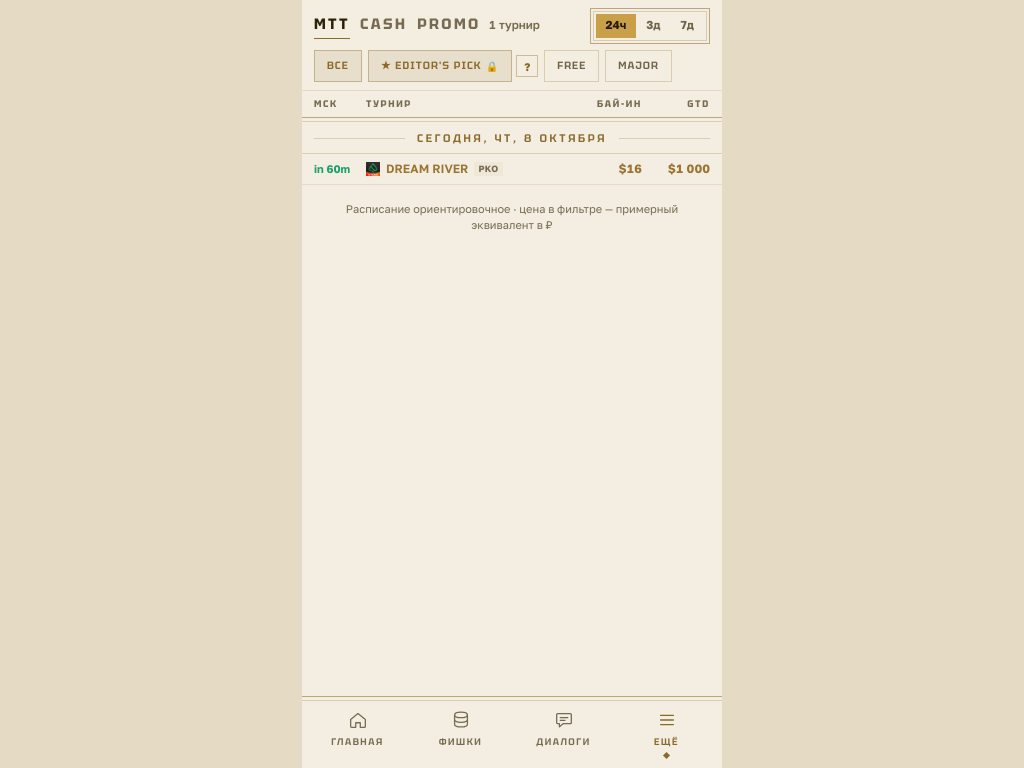
Scenario: MTT для гостя › неделя и Editor's Pick просят войти, запрос остаётся на сутки
expect the number of rows with test id "tournament-row" is 1: met, box [302, 154, 722, 185]
expect the text "🔒" is shown: met, box [486, 58, 499, 74]
Click the tab named "Неделя".
click(687, 26)  # box [670, 14, 704, 38]
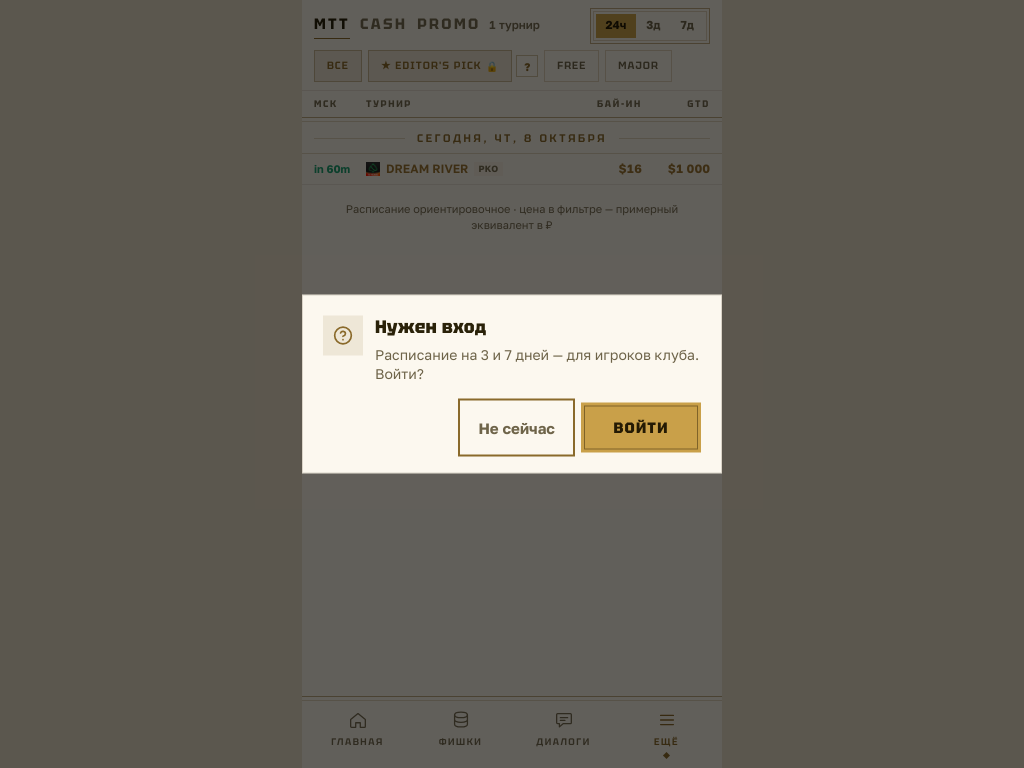
expect the heading "Нужен вход" is shown: met, box [375, 314, 486, 338]
expect the text "Расписание на 3 и 7 дней — для игроков клуба. Войти?" is shown: met, box [375, 344, 701, 382]
Click the button "Не сейчас".
click(517, 428)  # box [462, 402, 571, 452]
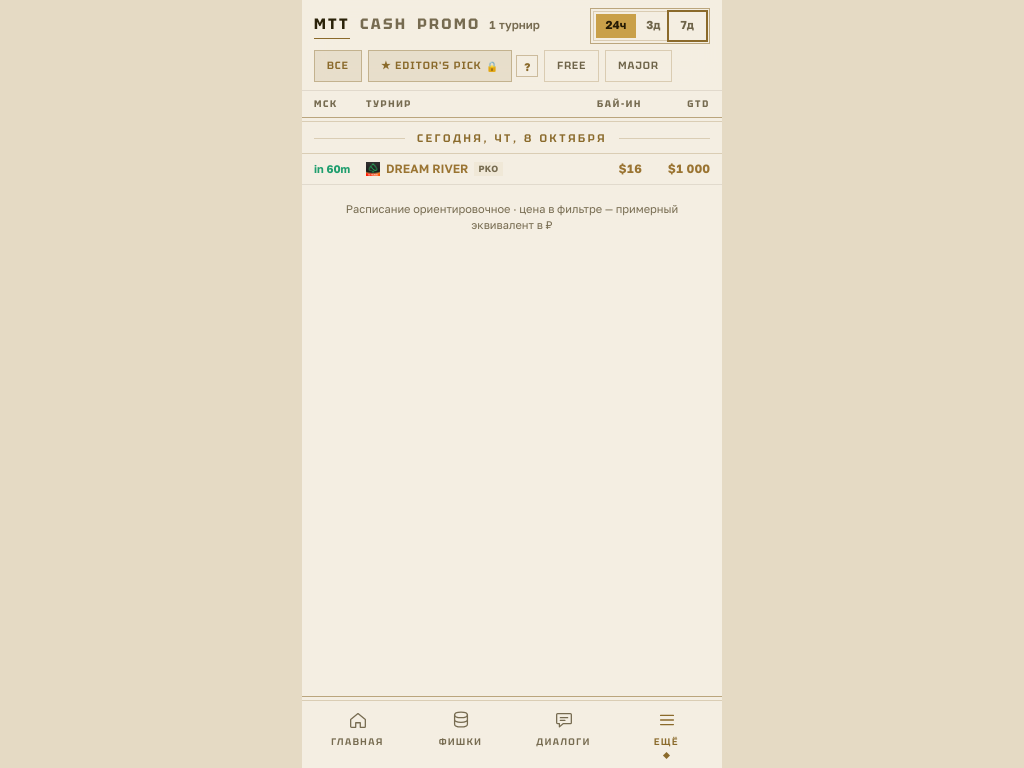
Click the button "★ Editor's Pick 🔒".
click(440, 66)  # box [368, 50, 512, 82]
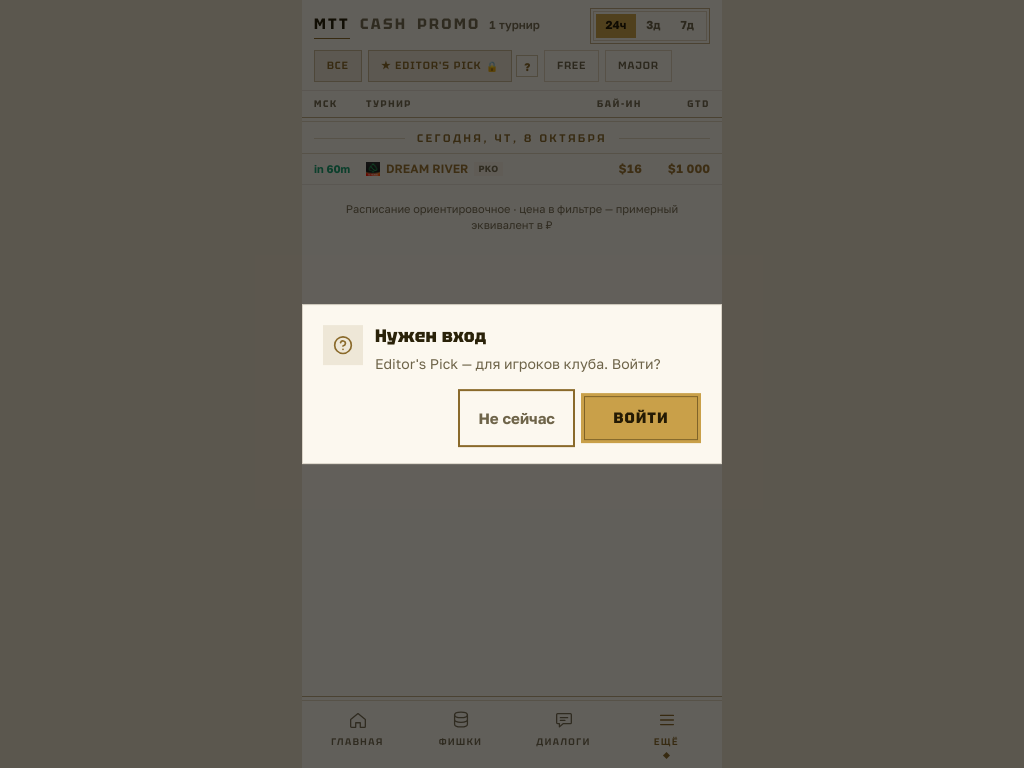
expect the text "Editor's Pick — для игроков клуба. Войти?" is shown: met, box [375, 354, 701, 373]
